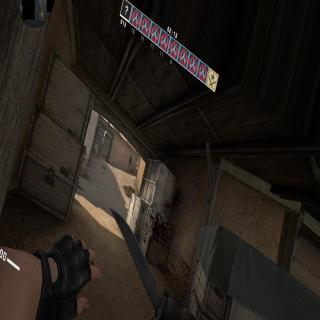CT-Body: (128, 154, 132, 167)
CT-Head: (130, 155, 132, 157)
